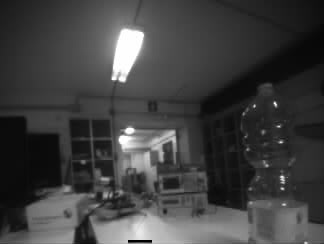Bottle: (244, 83, 307, 244)
